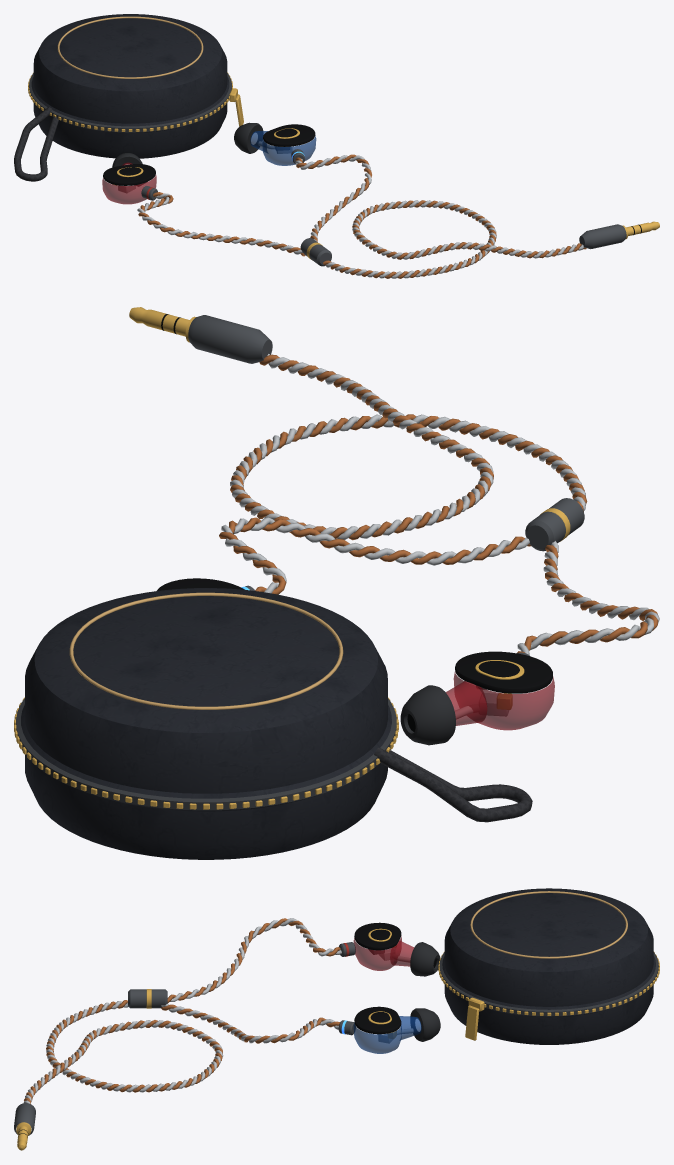
File: in-ear-monitors.glb
The picture shows the model from 3 angles, top to bottom: view 1: azimuth 30°, elevation 25°; view 2: azimuth 150°, elevation 25°; view 3: azimuth 270°, elevation 25°; orthographic projection. The views are drawn at different scales.
Visible parts, largest first — view 1: Case, Cable, Earpiece_Left, Earpiece_Right; view 2: Case, Cable, Earpiece_Right; view 3: Case, Cable, Earpiece_Right, Earpiece_Left.
Part boxes in pixels (bbox=[...]): Case: bbox=[14, 14, 243, 181]; Cable: bbox=[137, 154, 659, 278]; Earpiece_Left: bbox=[234, 122, 316, 165]; Earpiece_Right: bbox=[102, 153, 157, 204]; Case: bbox=[14, 588, 532, 859]; Cable: bbox=[129, 307, 659, 654]; Earpiece_Right: bbox=[400, 651, 554, 745]; Case: bbox=[438, 888, 659, 1044]; Cable: bbox=[14, 918, 341, 1150]; Earpiece_Right: bbox=[339, 922, 440, 976]; Earpiece_Left: bbox=[338, 1006, 440, 1053].
Bounding box in the file's own units: 0.1885 × 0.0326 × 0.2286.
17 materials, 2 textured.
